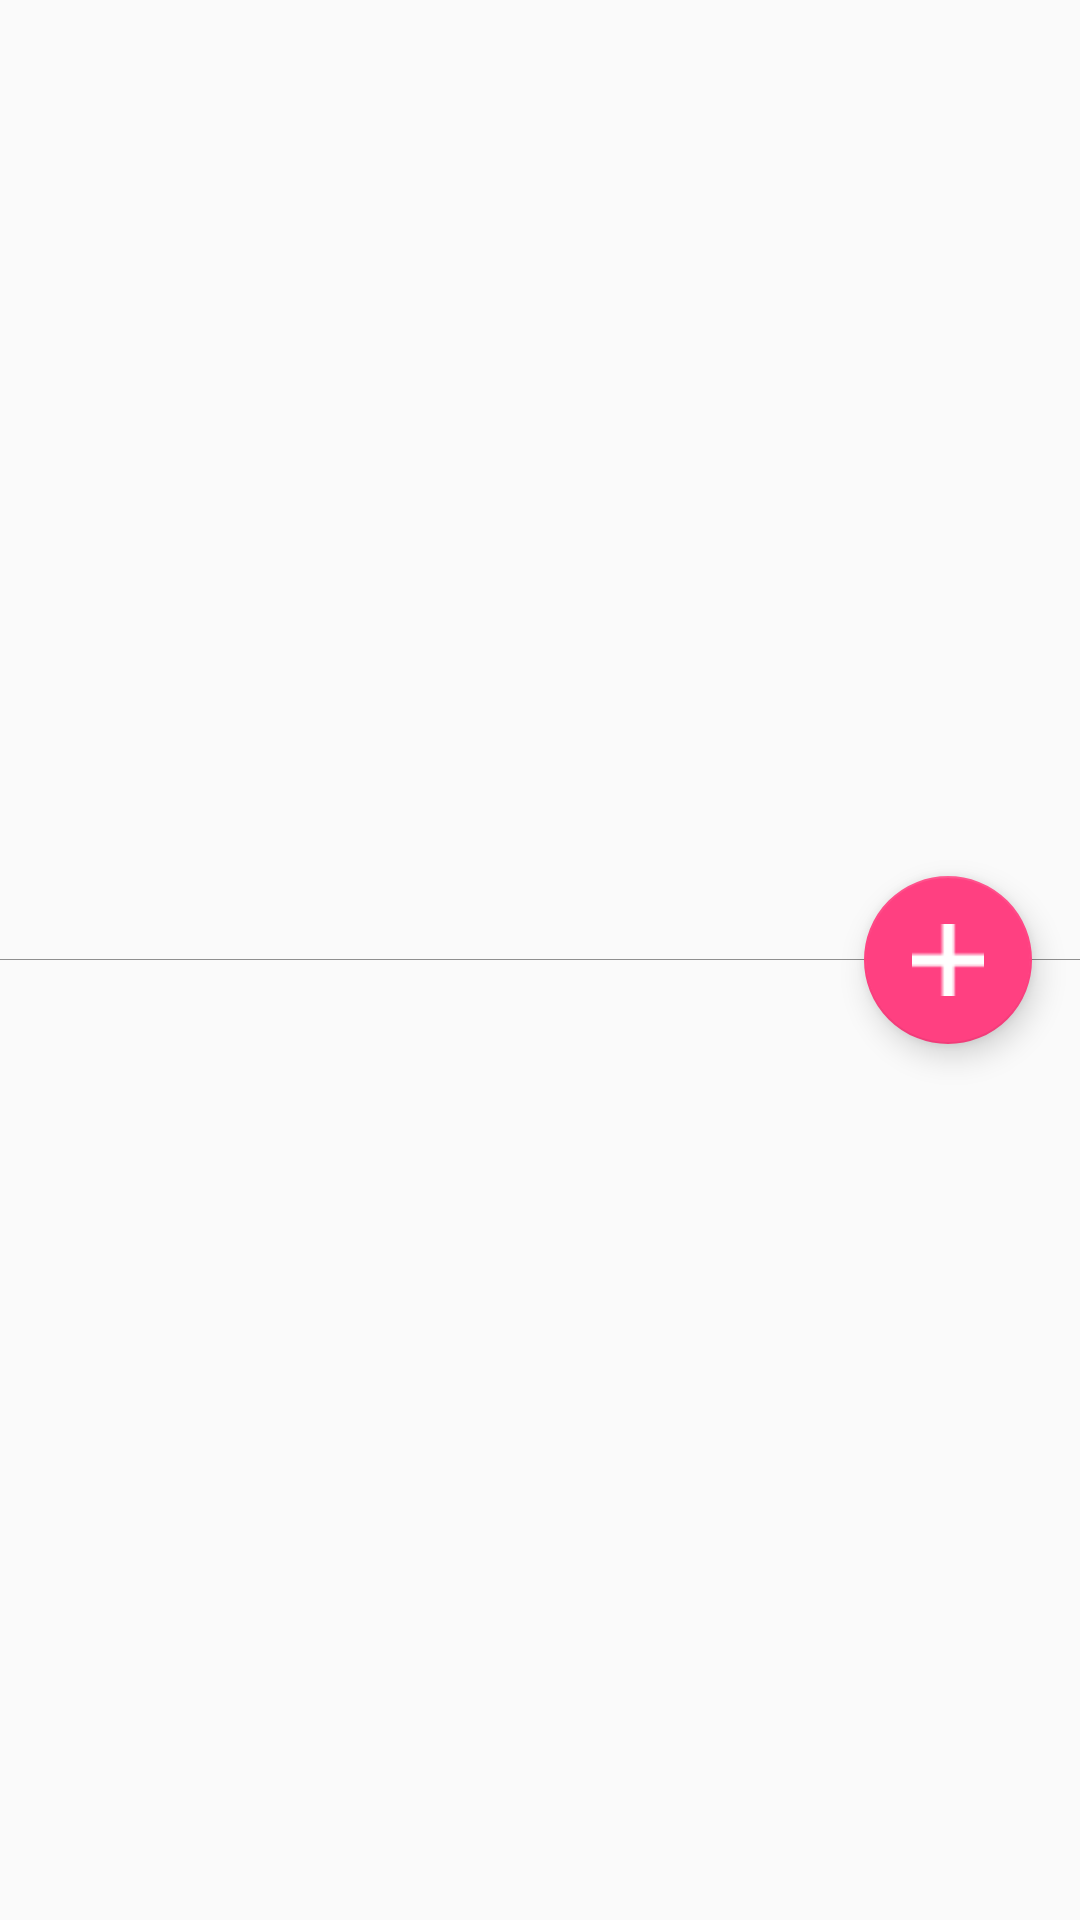

Locate icon controls on the screen. Image size 1080 x 1920, boxes as (x1, y1, x2, y2).
add: (864, 876, 1032, 1044)
